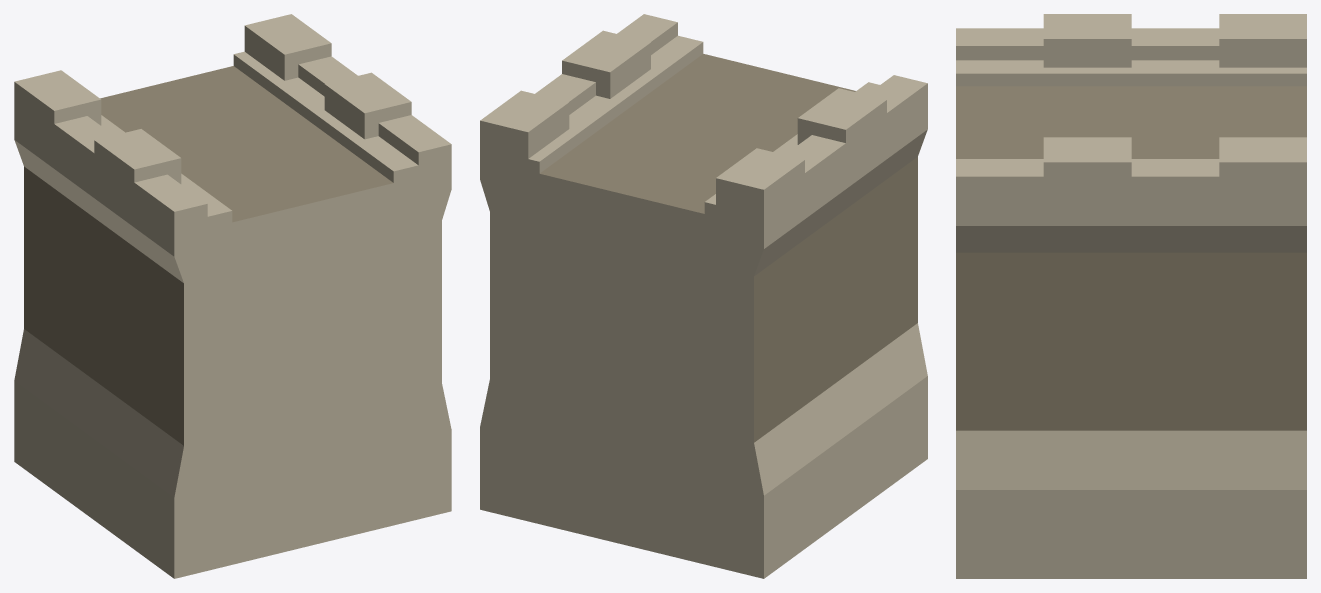
The model's file is wall.glb.
The picture shows the model from 3 angles, left to right: view 1: azimuth 30°, elevation 25°; view 2: azimuth 150°, elevation 25°; view 3: azimuth 270°, elevation 25°; orthographic projection. The views are drawn at different scales.
Visible parts, largest first — view 1: mesh_0, mesh_1; view 2: mesh_0, mesh_1; view 3: mesh_0, mesh_1.
Part boxes in pixels (<box>): mesh_0: <box>14,14,451,578</box>; mesh_1: <box>24,66,392,445</box>; mesh_0: <box>480,14,927,578</box>; mesh_1: <box>540,54,917,442</box>; mesh_0: <box>956,14,1306,578</box>; mesh_1: <box>956,86,1306,430</box>.
Bounding box in the file's own units: 10 × 13.1 × 10.
